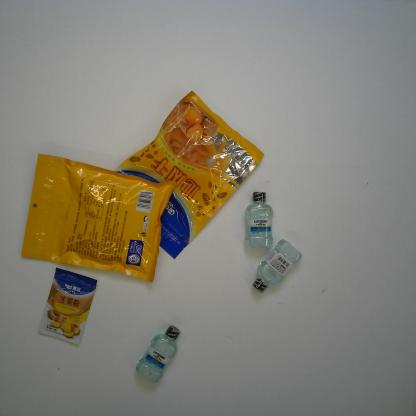Dried Fruit: (112, 90, 266, 260), (19, 152, 177, 284)
Personal Hygiene: (135, 325, 182, 383), (252, 239, 301, 293), (244, 191, 274, 250)
Seasoner: (37, 267, 98, 346)
